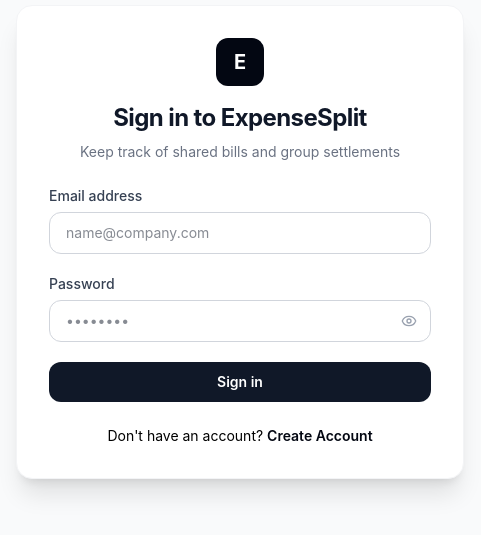
Test: Login Component › shows validation errors for empty fields on submit
Click the button "Sign in" at [240, 382], box [49,362,431,402]
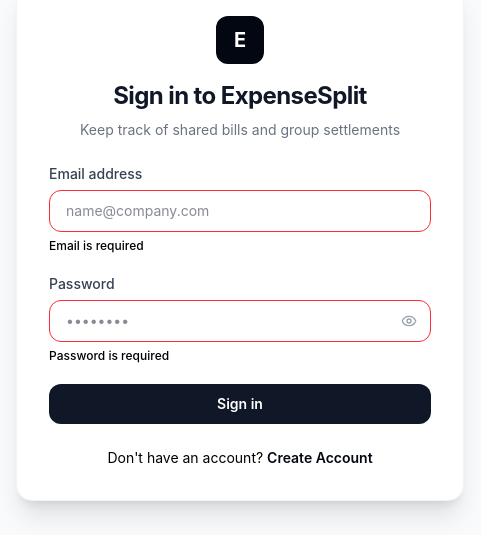
expect the text "Email is required" is shown: met, box [49,238,144,253]
expect the text "Password is required" is shown: met, box [49,348,169,363]
